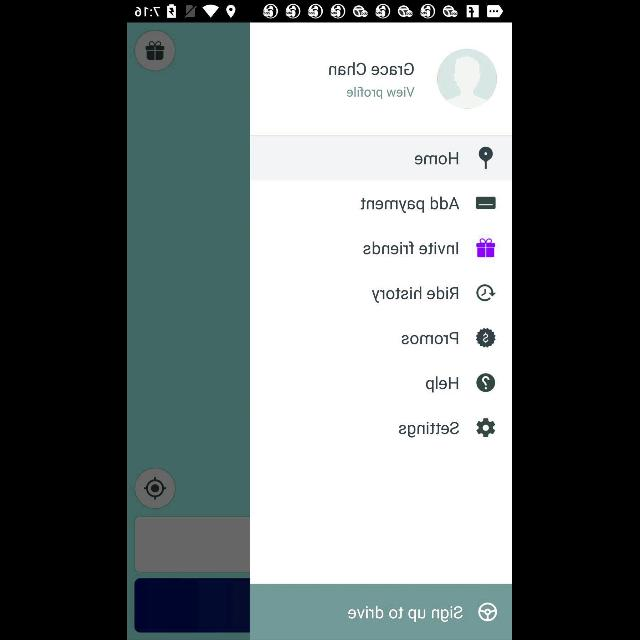icon: (438, 49, 498, 109), (476, 418, 496, 438), (476, 328, 496, 348), (476, 238, 496, 258), (478, 146, 494, 170), (476, 373, 496, 392), (477, 284, 497, 302), (476, 197, 496, 210)
panel: (251, 24, 513, 640)
text: (362, 196, 461, 214), (372, 285, 460, 303), (364, 241, 460, 255), (329, 62, 415, 76), (400, 422, 460, 438), (348, 86, 416, 100), (402, 332, 460, 346), (415, 151, 459, 165), (426, 376, 459, 394)
textbutton: (252, 584, 512, 640)
uppertaskbar: (128, 1, 512, 23)
